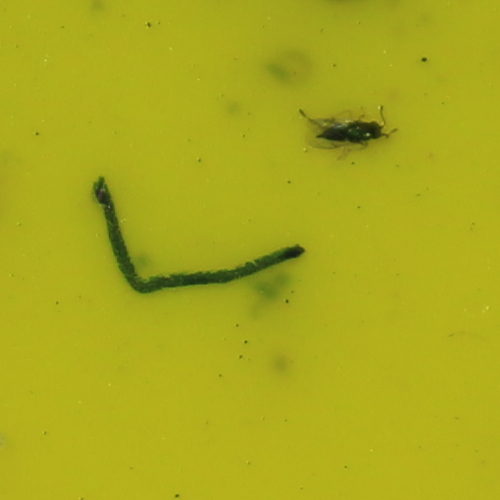wasp: (317, 119, 385, 152)
